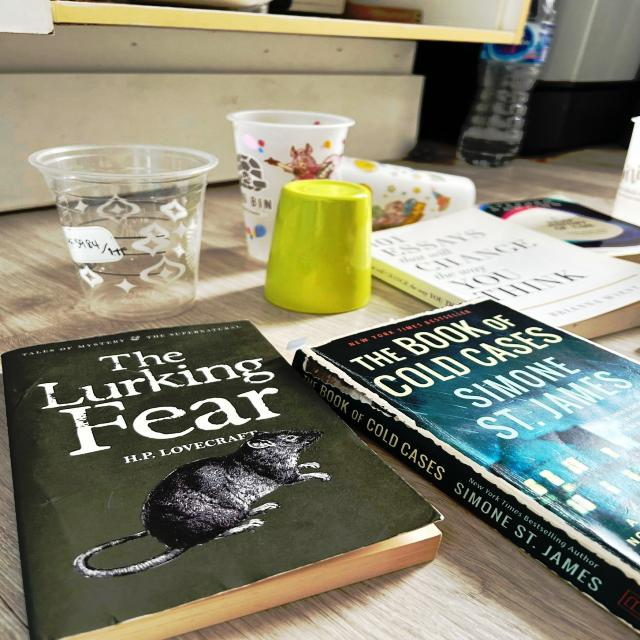Book: (2, 322, 441, 640), (293, 300, 639, 628), (372, 208, 639, 341), (481, 193, 639, 263)
Plastic Cup: (30, 145, 218, 319), (228, 110, 354, 262), (341, 158, 475, 230), (612, 116, 639, 224)
WaterGlass: (266, 180, 371, 314)
